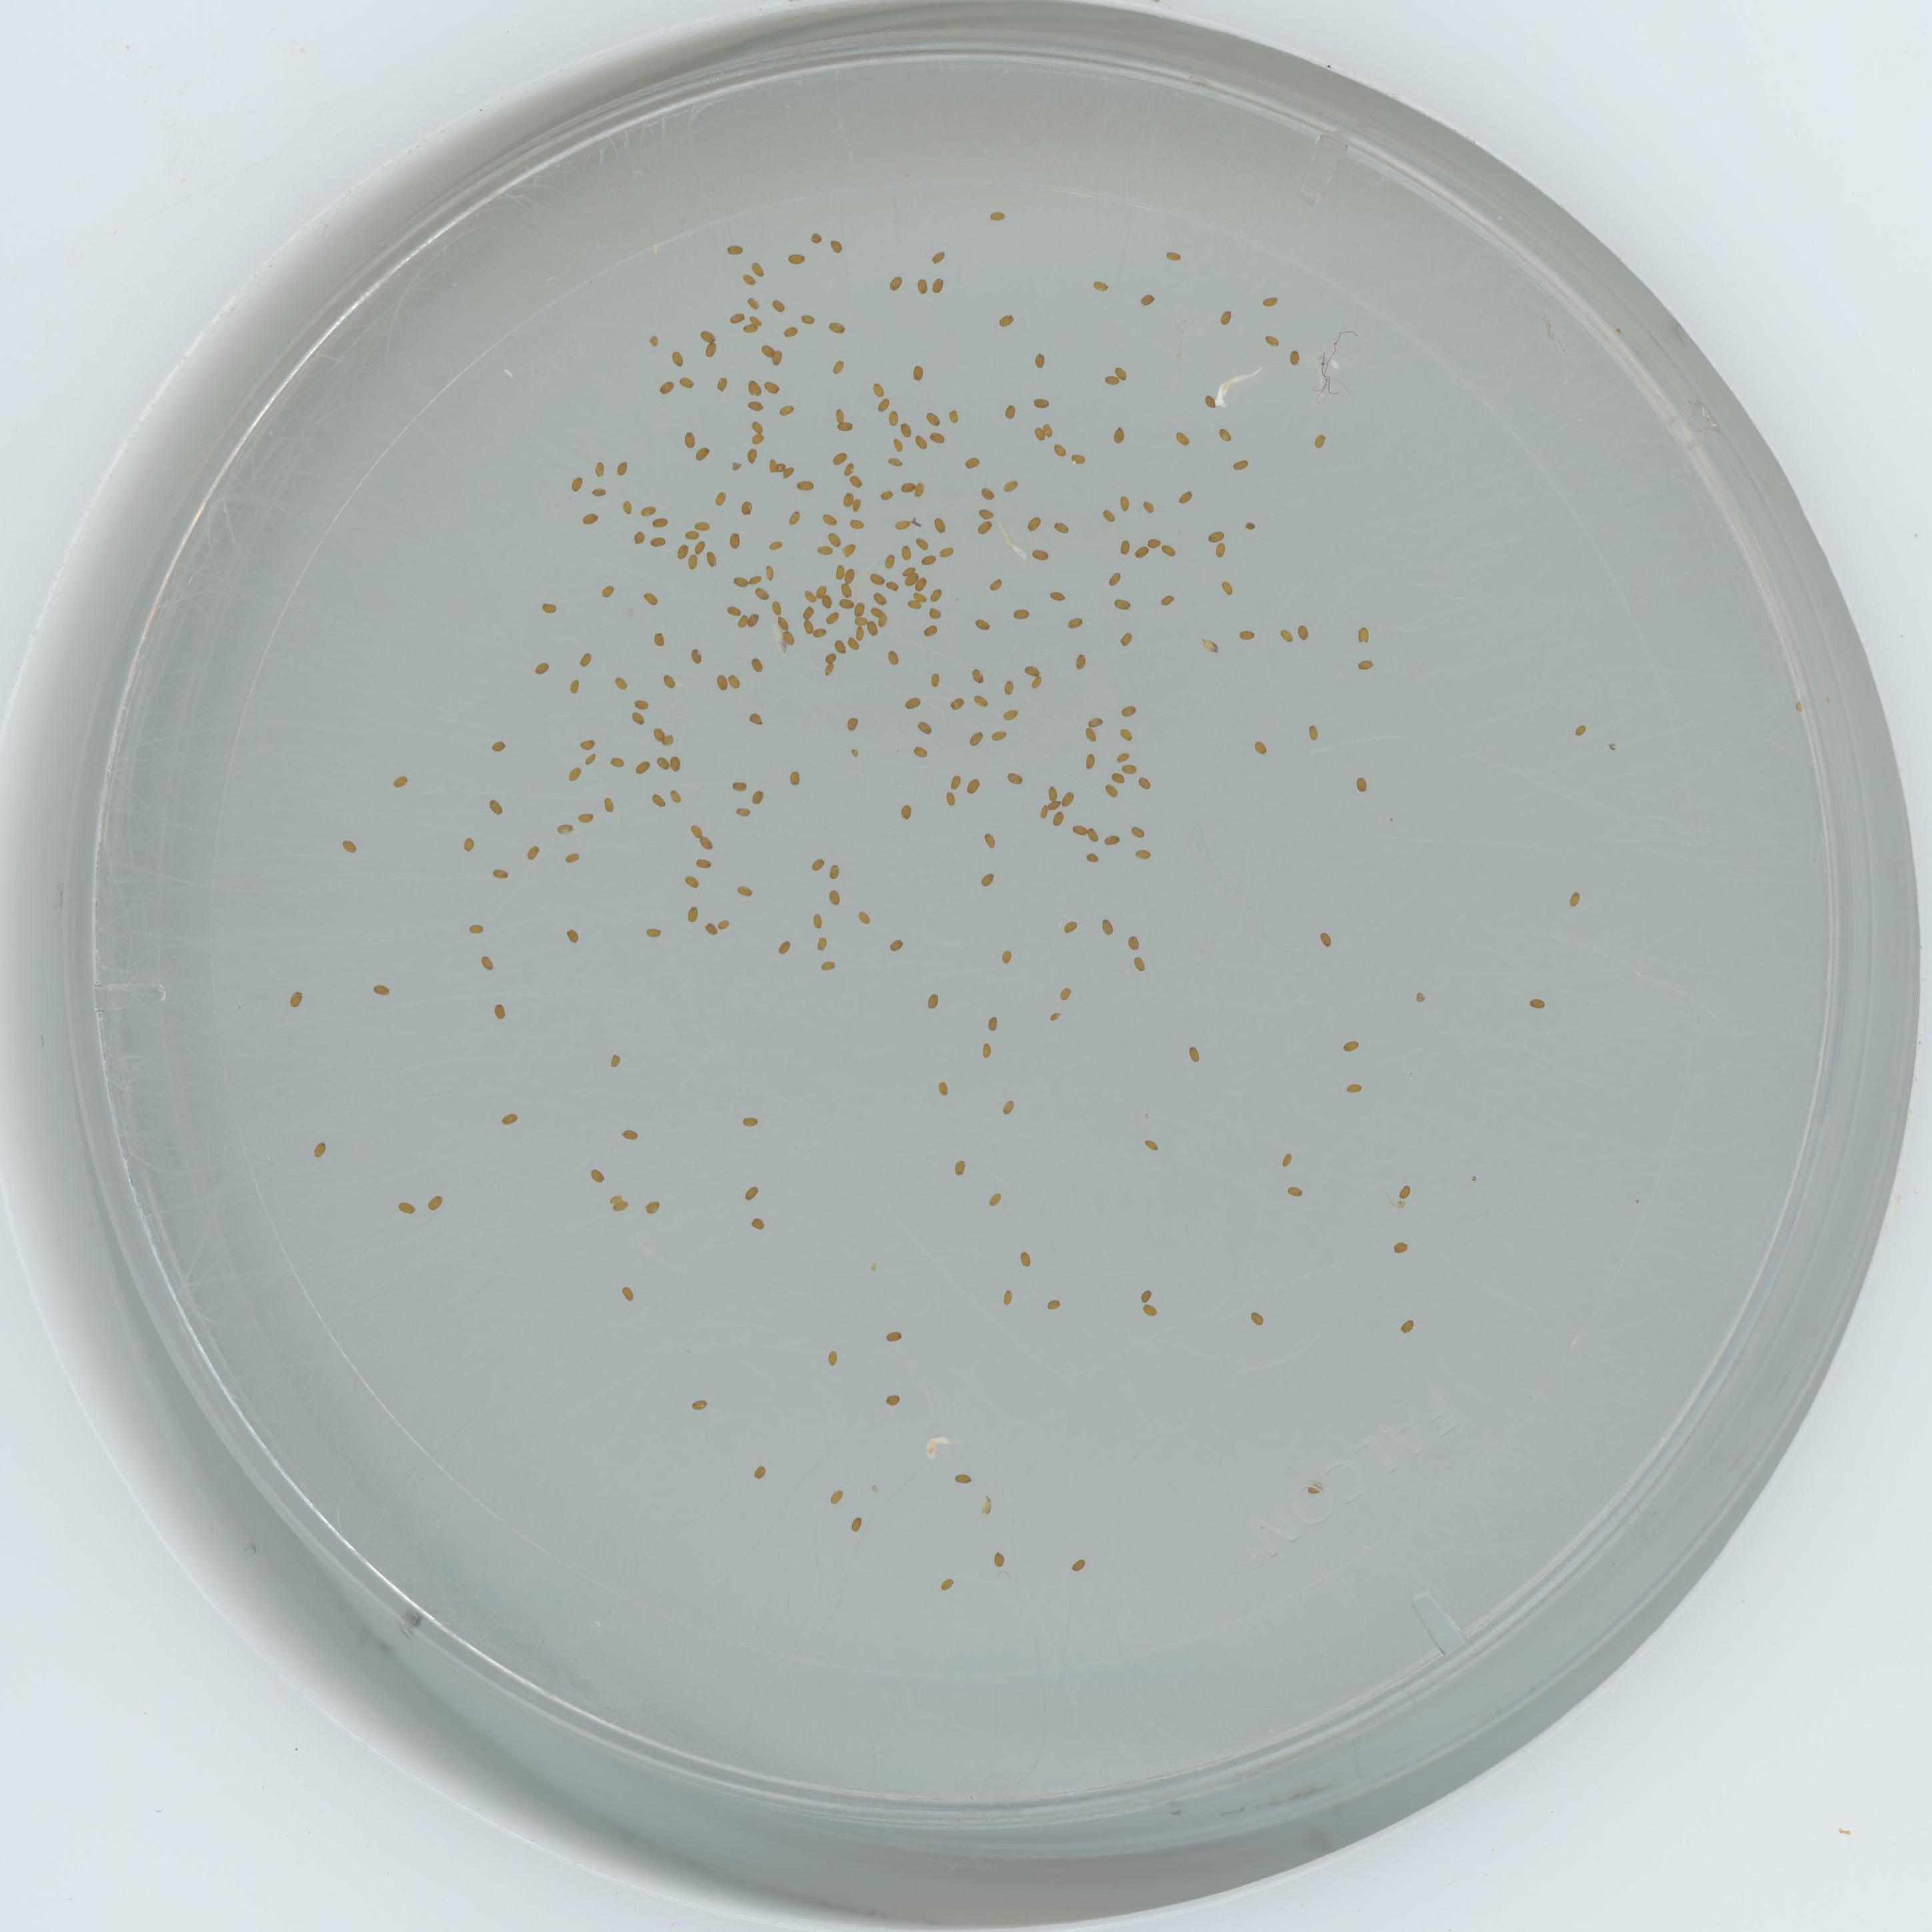seed: (1131, 952, 1150, 973), (1028, 545, 1051, 563), (1162, 246, 1185, 262), (828, 317, 847, 334), (642, 1196, 662, 1214), (1024, 515, 1044, 533), (924, 409, 941, 426), (600, 582, 617, 600), (929, 276, 947, 294), (487, 798, 504, 816), (842, 541, 860, 559), (725, 531, 743, 548), (685, 906, 702, 924), (777, 938, 794, 955), (747, 379, 764, 396), (810, 913, 828, 931), (492, 1001, 510, 1019), (502, 1108, 520, 1125), (1353, 625, 1371, 642), (1293, 623, 1311, 640), (968, 731, 985, 748), (1070, 653, 1088, 671), (985, 1191, 1003, 1208), (787, 248, 807, 264), (396, 1196, 416, 1212), (1051, 520, 1070, 536), (1001, 1288, 1017, 1307), (954, 1472, 975, 1486), (683, 876, 701, 892), (651, 515, 669, 531), (929, 428, 945, 446), (694, 517, 711, 533), (881, 554, 899, 570), (931, 515, 947, 533), (899, 478, 916, 494), (577, 810, 594, 826), (564, 925, 580, 943), (340, 839, 357, 855), (582, 510, 600, 525), (646, 924, 663, 939), (681, 432, 699, 448), (938, 545, 955, 561), (694, 446, 711, 462), (821, 511, 839, 527), (826, 890, 844, 906), (911, 745, 929, 761), (642, 589, 660, 605), (888, 274, 906, 290), (738, 499, 755, 515), (579, 734, 596, 750), (639, 501, 656, 517), (736, 883, 754, 899), (467, 920, 485, 936), (747, 711, 764, 727), (614, 460, 632, 476), (635, 759, 653, 775), (745, 448, 763, 464), (566, 766, 584, 782), (702, 920, 720, 936), (630, 529, 648, 545), (729, 308, 747, 324), (911, 481, 929, 497), (748, 656, 766, 672), (798, 476, 816, 492), (787, 770, 803, 787), (814, 934, 832, 950), (750, 789, 766, 807), (391, 773, 409, 789), (800, 605, 817, 621), (856, 909, 874, 925), (837, 596, 855, 612), (886, 1327, 904, 1343), (885, 1392, 902, 1408), (924, 993, 941, 1008), (287, 991, 304, 1007), (741, 1111, 759, 1127), (934, 1081, 952, 1097), (743, 1185, 761, 1201), (311, 1139, 327, 1157), (1012, 605, 1030, 621), (1007, 770, 1023, 787), (1001, 402, 1017, 419), (1116, 727, 1134, 743), (1097, 918, 1115, 934), (1109, 426, 1127, 442), (1276, 626, 1293, 642), (1113, 596, 1131, 612), (978, 485, 996, 501), (1116, 538, 1132, 556), (1260, 292, 1277, 308), (1207, 527, 1224, 543), (1116, 632, 1134, 648), (1030, 350, 1047, 366), (1173, 430, 1191, 446), (1123, 934, 1141, 950), (1237, 626, 1254, 642), (1159, 543, 1177, 559), (1090, 276, 1108, 292), (1086, 713, 1104, 729), (1099, 508, 1116, 524), (1304, 724, 1320, 741), (1079, 754, 1097, 770), (1104, 571, 1122, 587), (1062, 918, 1079, 934), (1201, 391, 1217, 409), (1352, 777, 1369, 793), (1311, 432, 1327, 449), (989, 207, 1007, 223), (1016, 1249, 1033, 1265), (991, 1550, 1007, 1568), (1139, 1302, 1157, 1318), (1341, 1035, 1359, 1051), (1185, 1044, 1201, 1062), (821, 957, 837, 975), (699, 329, 718, 343), (830, 451, 849, 465), (605, 1192, 626, 1205), (633, 695, 649, 711), (810, 856, 826, 872), (879, 488, 895, 504), (899, 543, 915, 559), (570, 476, 586, 492), (612, 676, 628, 692), (725, 602, 741, 617), (876, 396, 892, 412), (525, 846, 541, 862), (699, 837, 715, 853), (492, 738, 508, 754), (920, 552, 936, 568), (649, 534, 665, 550), (853, 602, 869, 617), (869, 570, 885, 586), (460, 837, 476, 853), (660, 379, 676, 395), (888, 936, 904, 952), (913, 433, 929, 449), (674, 543, 690, 559), (492, 867, 508, 883), (770, 600, 786, 616), (577, 651, 593, 667), (610, 755, 626, 771), (593, 460, 609, 476), (651, 793, 667, 809), (777, 616, 793, 632), (717, 916, 732, 932), (662, 674, 678, 690), (651, 632, 667, 648), (830, 564, 846, 580), (564, 849, 580, 865), (909, 364, 925, 380), (916, 720, 932, 736), (924, 623, 939, 639), (669, 789, 685, 805), (713, 490, 729, 506), (557, 821, 573, 837), (688, 648, 704, 663), (771, 297, 787, 313), (704, 550, 720, 566), (800, 310, 816, 326), (685, 554, 701, 570), (764, 379, 780, 395), (826, 610, 842, 626), (915, 534, 931, 550), (759, 341, 775, 357), (847, 472, 863, 488), (899, 803, 915, 819), (787, 510, 803, 525), (669, 755, 685, 771), (931, 248, 947, 264), (839, 582, 855, 598), (752, 260, 768, 276), (713, 674, 729, 690), (619, 499, 635, 515), (780, 402, 796, 418), (727, 674, 743, 690), (679, 375, 695, 391), (566, 679, 582, 695), (945, 407, 961, 423), (890, 437, 906, 453), (913, 278, 929, 294), (833, 407, 849, 423), (782, 464, 798, 479), (591, 485, 607, 501), (651, 725, 667, 741), (653, 755, 669, 771), (734, 803, 750, 819), (748, 571, 764, 587), (849, 1516, 865, 1532), (589, 1166, 605, 1182), (619, 1284, 635, 1300), (950, 1159, 966, 1175), (939, 1576, 955, 1592), (623, 1123, 639, 1139), (824, 1350, 840, 1366), (750, 1214, 766, 1230), (609, 1051, 625, 1067), (694, 1396, 709, 1412), (752, 1463, 768, 1479), (987, 577, 1003, 593), (1145, 533, 1161, 548), (977, 520, 993, 536), (1120, 704, 1136, 720), (1102, 784, 1118, 800), (1263, 331, 1279, 347), (1115, 495, 1131, 511), (1049, 587, 1065, 603), (1049, 812, 1065, 828), (1231, 456, 1247, 472), (1109, 771, 1125, 787), (1215, 426, 1231, 442), (1357, 656, 1373, 672), (980, 872, 996, 888), (1132, 545, 1148, 561), (1253, 740, 1269, 755), (1049, 441, 1065, 456), (1104, 832, 1120, 847), (966, 778, 982, 794), (1085, 828, 1100, 844), (1217, 310, 1233, 326), (1060, 791, 1076, 807), (998, 311, 1014, 327), (998, 948, 1014, 964), (1212, 543, 1228, 559), (1159, 593, 1175, 609), (1031, 395, 1047, 410), (1286, 349, 1302, 364), (982, 833, 998, 849), (1134, 847, 1150, 863), (966, 455, 982, 471), (1000, 679, 1016, 695), (1083, 849, 1099, 865), (1316, 931, 1332, 947), (1113, 364, 1129, 380), (1070, 1557, 1086, 1573), (1398, 1318, 1414, 1334), (1392, 1238, 1408, 1254), (1044, 1295, 1060, 1311), (1000, 1100, 1016, 1116), (1286, 1182, 1302, 1198), (1306, 1481, 1322, 1497), (985, 1016, 1001, 1031), (904, 695, 922, 709), (927, 607, 945, 621), (628, 711, 646, 725), (913, 577, 931, 591), (782, 324, 800, 338), (533, 662, 550, 676), (479, 955, 497, 970), (826, 865, 844, 879), (893, 517, 911, 531), (695, 858, 713, 872), (600, 798, 617, 812), (745, 295, 763, 310), (750, 432, 768, 446), (741, 272, 759, 287), (901, 564, 918, 579), (906, 598, 924, 612), (669, 352, 686, 366), (837, 421, 855, 435), (801, 587, 819, 602), (731, 573, 748, 587), (828, 1490, 846, 1504), (973, 617, 991, 632), (1566, 892, 1583, 906), (1138, 292, 1155, 306), (1001, 708, 1019, 722), (1134, 777, 1152, 791), (1102, 372, 1120, 386), (1081, 729, 1099, 743), (1345, 1079, 1362, 1093), (899, 421, 913, 437), (888, 651, 904, 665), (929, 587, 945, 602), (849, 517, 865, 531), (885, 410, 899, 426), (872, 591, 888, 605), (770, 538, 786, 552), (872, 380, 886, 396), (704, 343, 720, 357), (888, 455, 904, 469), (826, 531, 842, 545), (948, 697, 964, 711), (817, 543, 833, 557), (694, 540, 709, 554), (832, 359, 847, 373), (886, 579, 901, 594), (800, 621, 816, 635), (764, 564, 778, 580), (715, 377, 731, 391), (685, 527, 701, 541), (732, 778, 748, 793), (927, 672, 941, 688), (947, 775, 962, 789), (846, 717, 862, 731), (830, 237, 844, 253), (823, 651, 839, 665), (867, 619, 881, 635), (833, 639, 847, 655), (727, 242, 743, 257), (688, 824, 704, 839), (821, 594, 835, 610), (823, 663, 837, 679), (748, 311, 764, 326), (750, 419, 766, 433), (943, 791, 959, 805), (842, 462, 858, 476), (747, 612, 763, 626), (582, 752, 598, 766), (743, 322, 759, 336), (771, 350, 787, 364), (853, 625, 869, 639), (734, 616, 750, 630), (729, 458, 745, 472), (902, 573, 918, 587), (373, 982, 389, 996), (426, 1194, 442, 1208), (1001, 478, 1017, 492), (971, 694, 987, 708), (977, 506, 993, 520), (1177, 490, 1192, 504), (1067, 616, 1083, 630), (1219, 580, 1233, 596), (1044, 786, 1058, 801), (991, 729, 1007, 743), (1069, 823, 1085, 837), (1129, 824, 1145, 839), (970, 669, 985, 683), (1040, 421, 1054, 437), (1069, 449, 1085, 464), (1113, 750, 1129, 764), (1028, 426, 1044, 441), (1529, 996, 1545, 1010), (1247, 1311, 1263, 1325), (1136, 1286, 1152, 1300), (1141, 1136, 1157, 1150), (1396, 1184, 1412, 1198), (980, 1042, 994, 1058), (844, 566, 856, 584), (913, 591, 931, 603), (840, 492, 855, 506), (541, 600, 556, 614), (847, 637, 862, 651), (782, 632, 796, 646), (849, 499, 863, 513), (814, 626, 828, 640), (648, 333, 662, 347), (766, 458, 780, 472), (1139, 499, 1154, 513), (1573, 724, 1587, 738), (1046, 800, 1060, 814), (1058, 985, 1072, 1000), (1279, 1152, 1293, 1166), (1049, 1008, 1063, 1023), (1030, 678, 1044, 692), (755, 587, 771, 600), (747, 400, 763, 412), (1122, 763, 1138, 775), (610, 1201, 628, 1212), (816, 582, 828, 596), (1024, 665, 1039, 678), (810, 232, 824, 244), (872, 605, 888, 616), (1039, 803, 1049, 819), (660, 734, 676, 745), (853, 616, 869, 626), (878, 614, 888, 626)
